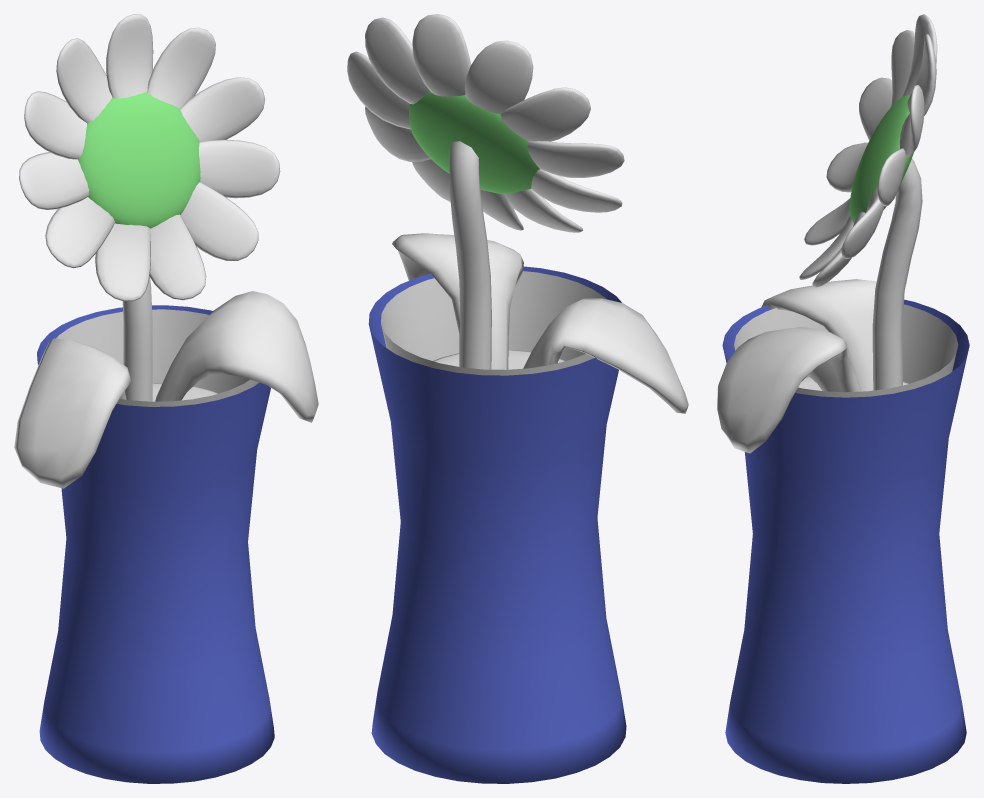
The model's file is Flower_Fine.fbx.
The picture shows the model from 3 angles, left to right: view 1: azimuth 30°, elevation 25°; view 2: azimuth 150°, elevation 25°; view 3: azimuth 270°, elevation 25°; orthographic projection. The views are drawn at different scales.
Visible parts, largest first — view 1: FlowerVase_Fine, FlowerHead_Fine, FlowerLeafs_Fine, FlowerNeck_Fine; view 2: FlowerVase_Fine, FlowerHead_Fine, FlowerLeafs_Fine, FlowerNeck_Fine, FlowerVaseWater_Full; view 3: FlowerVase_Fine, FlowerLeafs_Fine, FlowerHead_Fine, FlowerNeck_Fine.
Boxes of the visible parts, x1,y1,x2,y2 form: FlowerVase_Fine: [37, 305, 274, 783]; FlowerHead_Fine: [19, 14, 280, 301]; FlowerLeafs_Fine: [14, 291, 318, 488]; FlowerNeck_Fine: [122, 276, 152, 401]; FlowerVase_Fine: [368, 266, 626, 783]; FlowerHead_Fine: [347, 14, 624, 232]; FlowerLeafs_Fine: [392, 233, 688, 413]; FlowerNeck_Fine: [449, 141, 491, 369]; FlowerVaseWater_Full: [433, 350, 564, 369]; FlowerVase_Fine: [722, 299, 969, 783]; FlowerLeafs_Fine: [717, 279, 876, 453]; FlowerHead_Fine: [799, 14, 937, 287]; FlowerNeck_Fine: [872, 158, 922, 390].
Size of the model in its own units: 0.1487 by 0.3532 by 0.1142.
